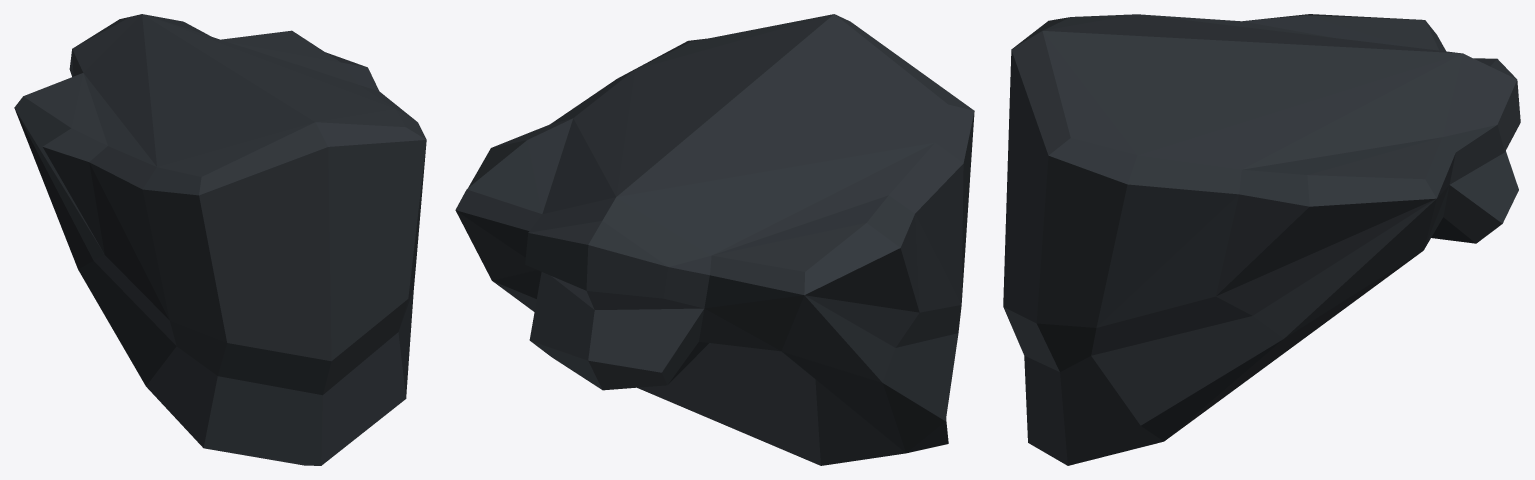
Rendered from Chr_HeadCoverings_No_FacialHair_03_Static.fbx.
3 views of the same model, side by side, from view 1: azimuth 30°, elevation 25°; view 2: azimuth 150°, elevation 25°; view 3: azimuth 270°, elevation 25° (orthographic). The views are drawn at different scales.
Visible parts, largest first — view 1: Chr_HeadCoverings_No_FacialHair_03_Static; view 2: Chr_HeadCoverings_No_FacialHair_03_Static; view 3: Chr_HeadCoverings_No_FacialHair_03_Static.
Part boxes in pixels (bbox=[...]): Chr_HeadCoverings_No_FacialHair_03_Static: bbox=[14, 14, 426, 465]; Chr_HeadCoverings_No_FacialHair_03_Static: bbox=[455, 14, 974, 465]; Chr_HeadCoverings_No_FacialHair_03_Static: bbox=[1003, 14, 1520, 465].
Size of the model in its own units: 0.2625 by 0.2708 by 0.2979.
